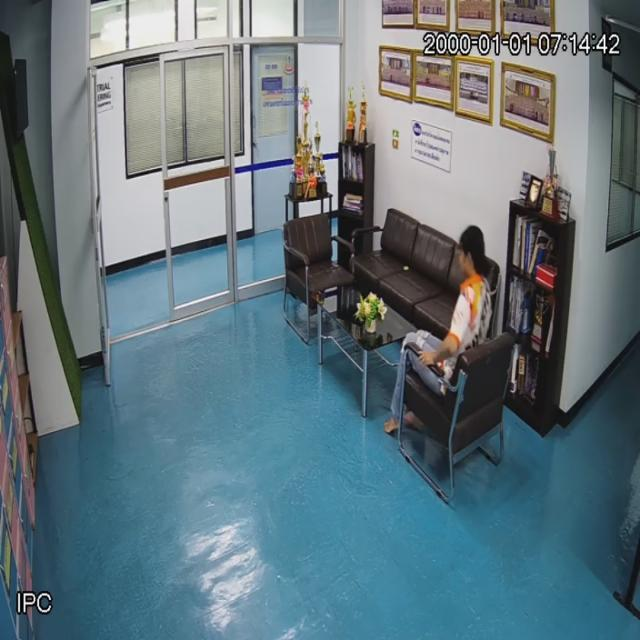normal: (389, 226, 495, 426)
